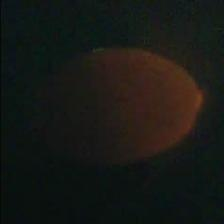fertile: (28, 46, 202, 162)
